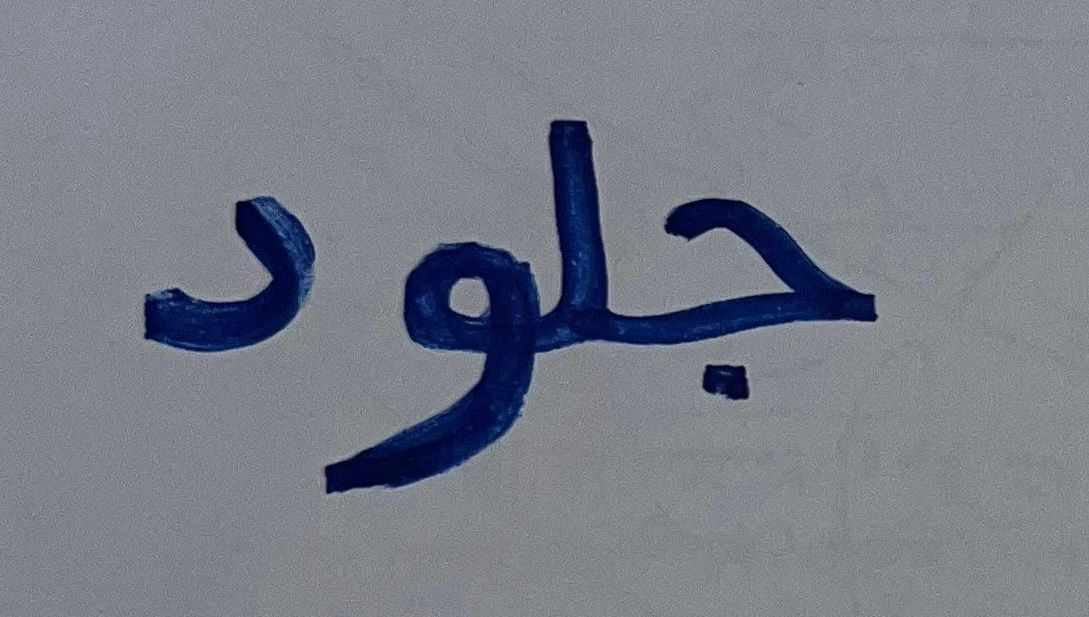dal: (119, 162, 319, 361)
jeem: (640, 167, 901, 428)
lam: (545, 95, 635, 361)
waw: (322, 213, 542, 545)
